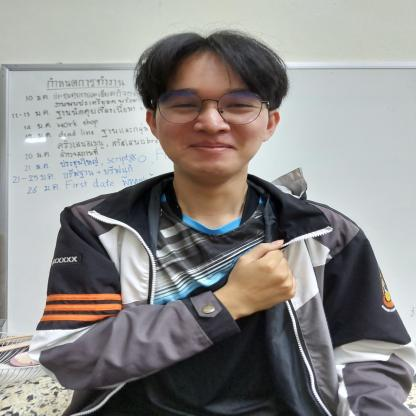Sad: (202, 238, 307, 320)
